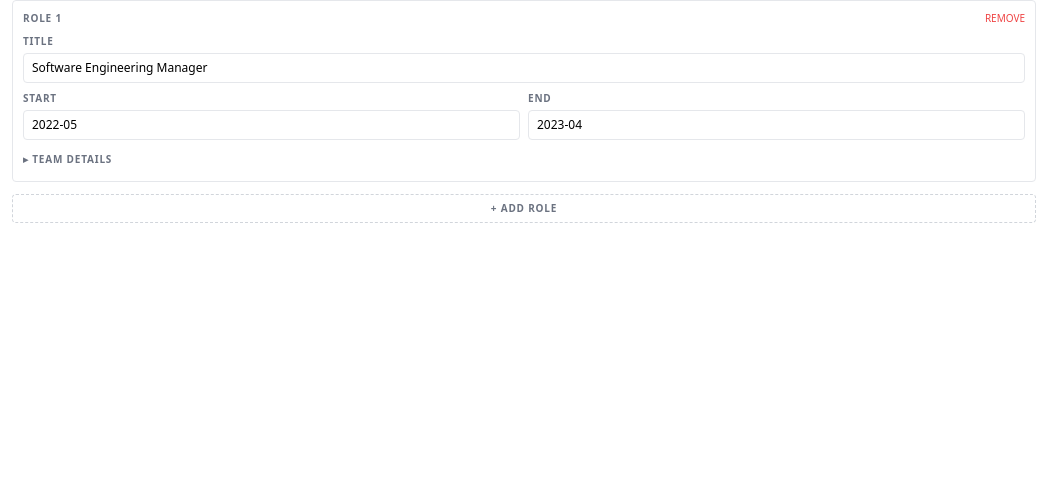
RolesSection › team details › clicking toggle again hides team fields
What coordinates should you click on to do the following:
click the button with test id "team-toggle-0"
I would click on:
 (68, 159)
Its box is [23,148,1025,171].
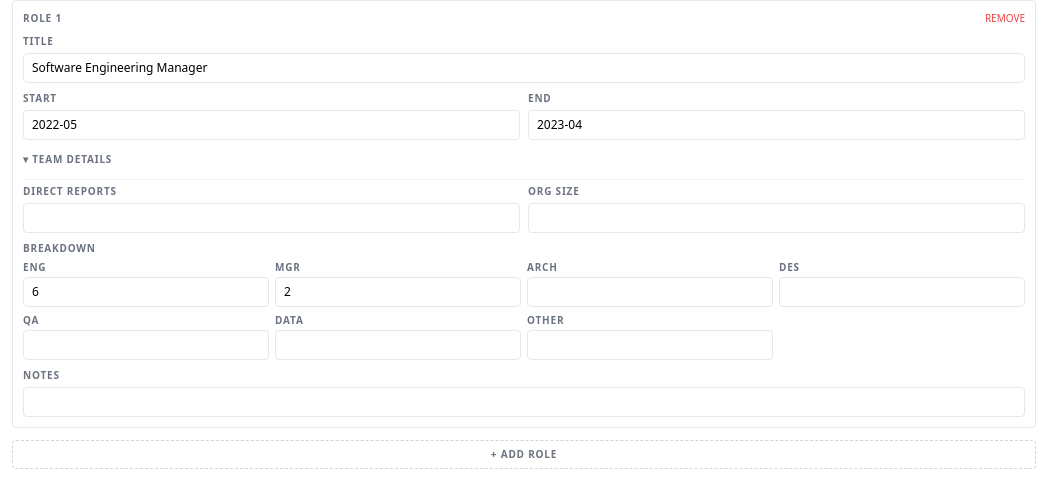
What coordinates should you click on to do the following:
click the button with test id "team-toggle-0"
I would click on:
 (68, 159)
Its box is [23,148,1025,171].
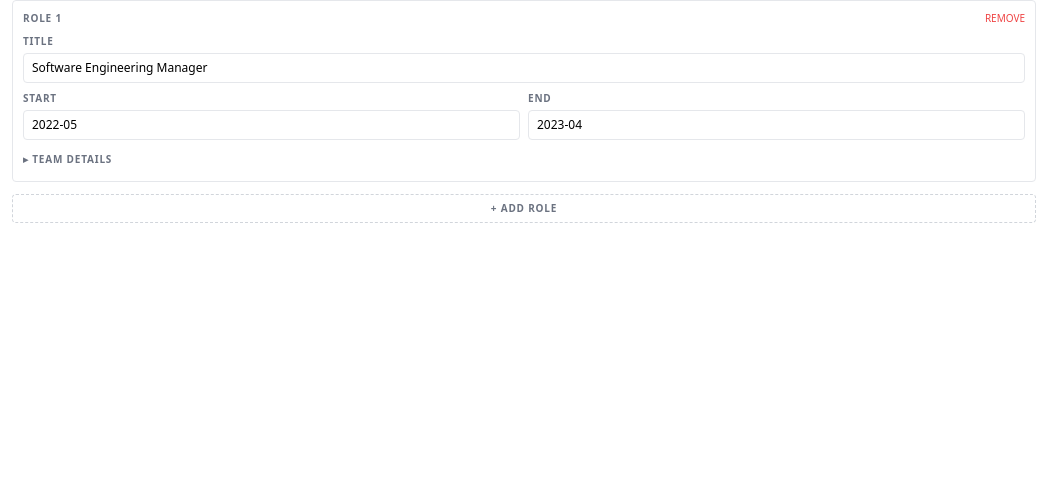
Now the number field with test id "team-direct-reports-0" is gone
